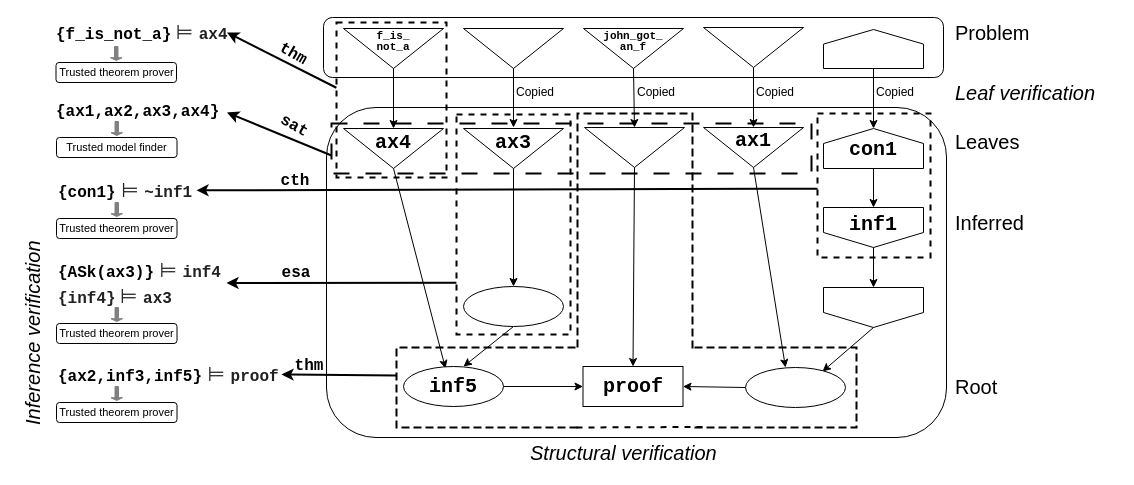
Some shapes in this 1134 by 485 pixel diagram are drawn without their labels. The shapes that lost their labels are listed below. From the top down, each one's centre as x and y in pixels, then its label:
At (513,48): "someone_ got _an_a".
At (753,47): "all_created _equal".
At (873,48): "there_is_ someone_else".
At (634,147): "ax2".
At (513,306): "inf4".
At (873,307): "inf2".
At (795,387): "inf3".
